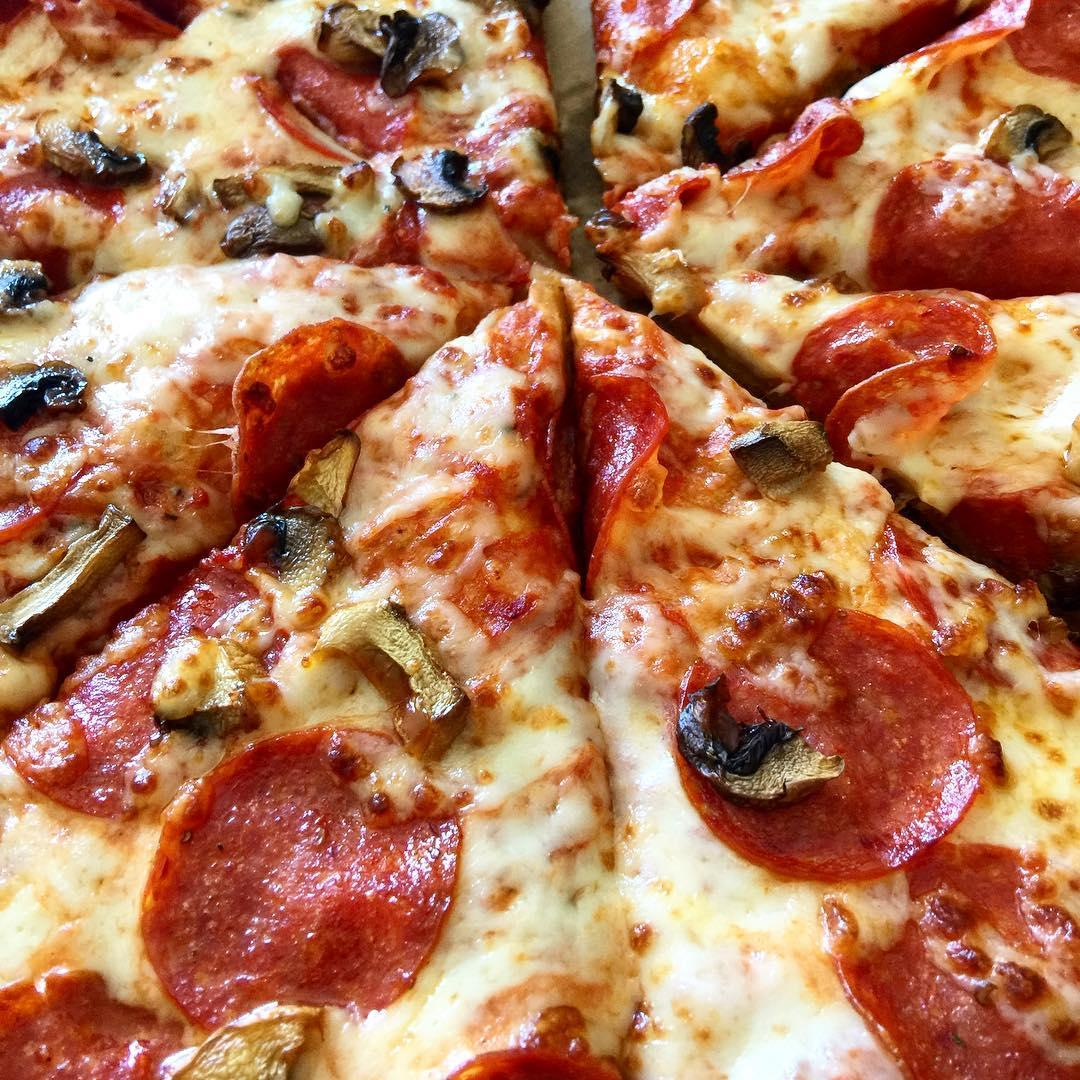Mushroom: (0, 498, 138, 717), (687, 680, 827, 803), (307, 597, 443, 723), (318, 0, 465, 87), (15, 113, 155, 188), (250, 507, 342, 605), (0, 362, 95, 432), (390, 140, 477, 215), (687, 98, 747, 182), (997, 95, 1073, 160), (0, 255, 48, 322)
Pepperoni: (678, 598, 993, 883), (147, 728, 455, 1017), (0, 532, 268, 840), (822, 847, 1080, 1080), (505, 373, 663, 598), (233, 317, 417, 500), (873, 157, 1080, 315), (798, 300, 1002, 442), (0, 953, 178, 1080), (242, 50, 422, 167), (722, 102, 867, 200)
Pizza: (0, 0, 1080, 1080)
